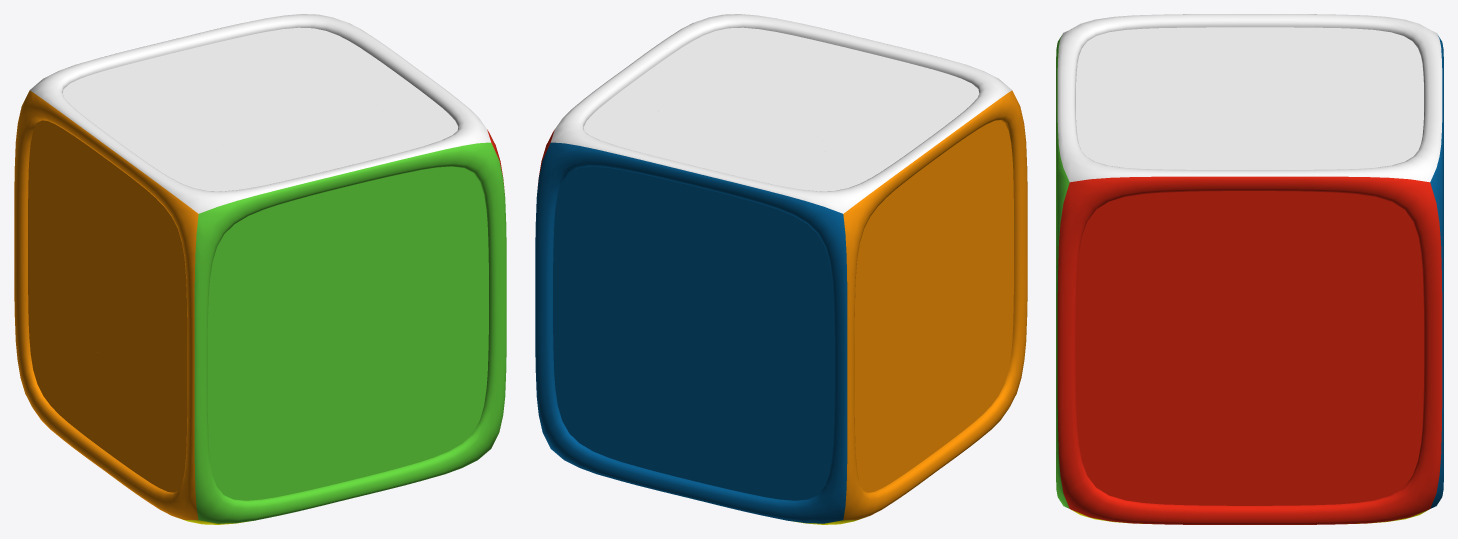
File: Ordiks_Cube_Restart_216.glb
The picture shows the model from 3 angles, left to right: view 1: azimuth 30°, elevation 25°; view 2: azimuth 150°, elevation 25°; view 3: azimuth 270°, elevation 25°; orthographic projection. The views are drawn at different scales.
Parts seen in each view (by area): view 1: -1,1,1, -1,0,1, -1,-1,1, 0,1,1, 1,1,1, -1,1,-1, -1,1,0, 0,-1,1, 1,0,1, 0,0,1, 1,-1,1, -1,0,-1 (+7 smaller); view 2: -1,1,-1, -1,0,-1, -1,-1,-1, 0,1,-1, 1,1,-1, -1,1,1, -1,1,0, 0,-1,-1, 1,0,-1, 0,0,-1, 1,-1,-1, -1,0,1 (+7 smaller); view 3: 1,1,1, 1,1,-1, 1,1,0, 1,-1,0, 1,0,0, 1,0,1, 1,0,-1, 1,-1,1, 1,-1,-1, -1,1,0, 0,1,0, 0,1,1 (+3 smaller).
Boxes of the visible parts, x1,y1,x2,y2 form: -1,1,1: [133, 146, 298, 318]; -1,0,1: [140, 274, 294, 428]; -1,-1,1: [133, 384, 298, 524]; 0,1,1: [238, 121, 403, 290]; 1,1,1: [344, 89, 506, 265]; -1,1,-1: [14, 53, 176, 228]; -1,1,0: [72, 102, 237, 273]; 0,-1,1: [295, 375, 403, 511]; 1,0,1: [400, 242, 506, 375]; 0,0,1: [295, 265, 400, 400]; 1,-1,1: [400, 352, 506, 485]; -1,0,-1: [14, 187, 79, 338]; -1,1,-1: [743, 146, 908, 318]; -1,0,-1: [747, 274, 901, 428]; -1,-1,-1: [743, 384, 908, 524]; 0,1,-1: [638, 121, 803, 290]; 1,1,-1: [535, 89, 697, 265]; -1,1,1: [865, 53, 1027, 228]; -1,1,0: [804, 102, 969, 273]; 0,-1,-1: [638, 375, 746, 511]; 1,0,-1: [535, 242, 641, 375]; 0,0,-1: [641, 265, 746, 400]; 1,-1,-1: [535, 352, 641, 485]; -1,0,1: [962, 187, 1027, 338]; 1,1,1: [1056, 121, 1185, 292]; 1,1,-1: [1314, 121, 1443, 292]; 1,1,0: [1185, 128, 1314, 289]; 1,-1,0: [1185, 406, 1314, 524]; 1,0,0: [1185, 289, 1314, 406]; 1,0,1: [1056, 289, 1185, 409]; 1,0,-1: [1314, 289, 1443, 409]; 1,-1,1: [1056, 406, 1185, 524]; 1,-1,-1: [1314, 406, 1443, 524]; -1,1,0: [1185, 14, 1314, 73]; 0,1,0: [1185, 73, 1314, 128]; 0,1,1: [1056, 66, 1185, 128].
Bounding box in the file's own units: 2 × 2 × 2.
1 material, 1 textured.
